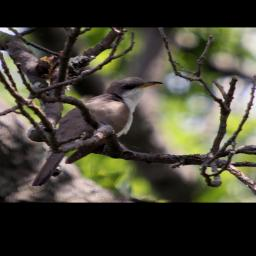Cuckoo: (31, 74, 166, 190)
